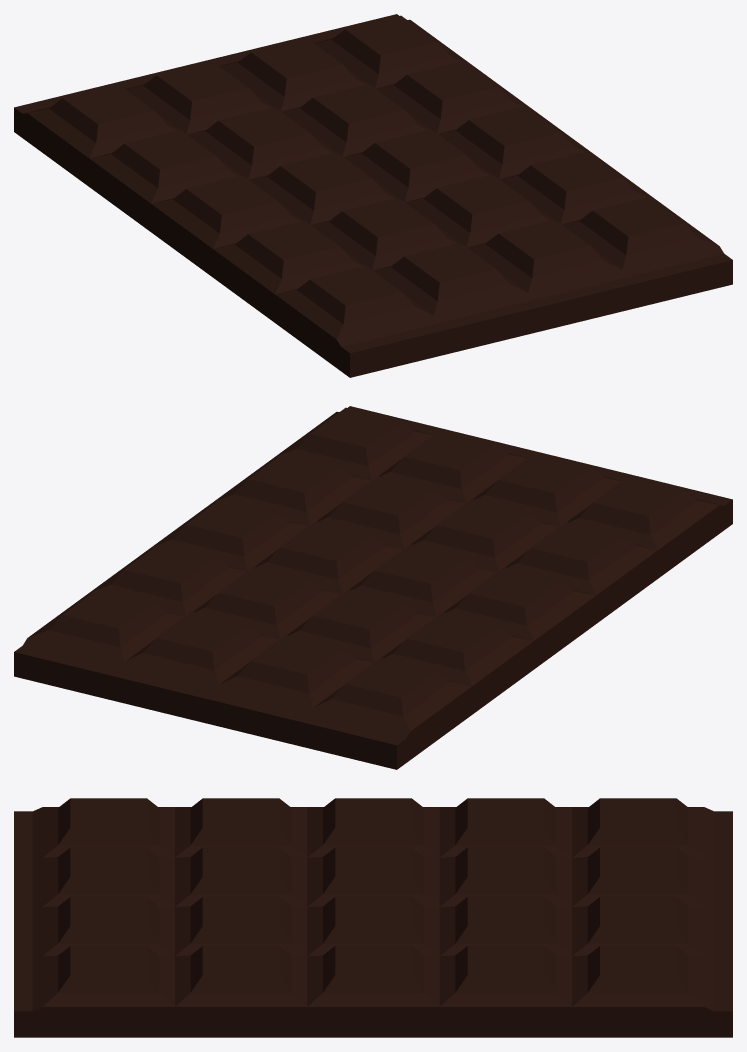
File: chocolate-bar.glb
3 renders of one model, top to bottom at view 1: azimuth 30°, elevation 25°; view 2: azimuth 150°, elevation 25°; view 3: azimuth 270°, elevation 25°, orthographic. The views are drawn at different scales.
Parts seen in each view (by area): view 1: ChocolateBar; view 2: ChocolateBar; view 3: ChocolateBar.
Boxes of the visible parts, left/top/right/bottom form: ChocolateBar: left=14, top=14, right=732, bottom=377; ChocolateBar: left=14, top=406, right=732, bottom=769; ChocolateBar: left=14, top=798, right=732, bottom=1037.
Size of the model in its own units: 57.52 by 6.83 by 87.42.
